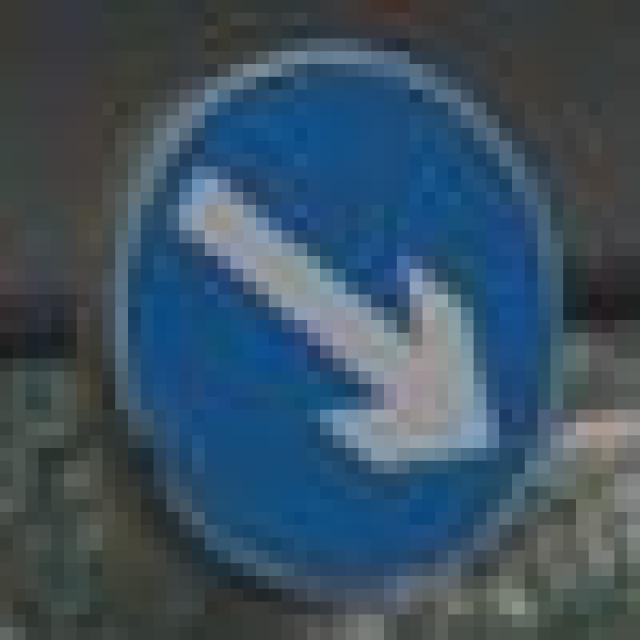COMPULSARY_KEEP_RIGHT: (77, 26, 576, 614)
